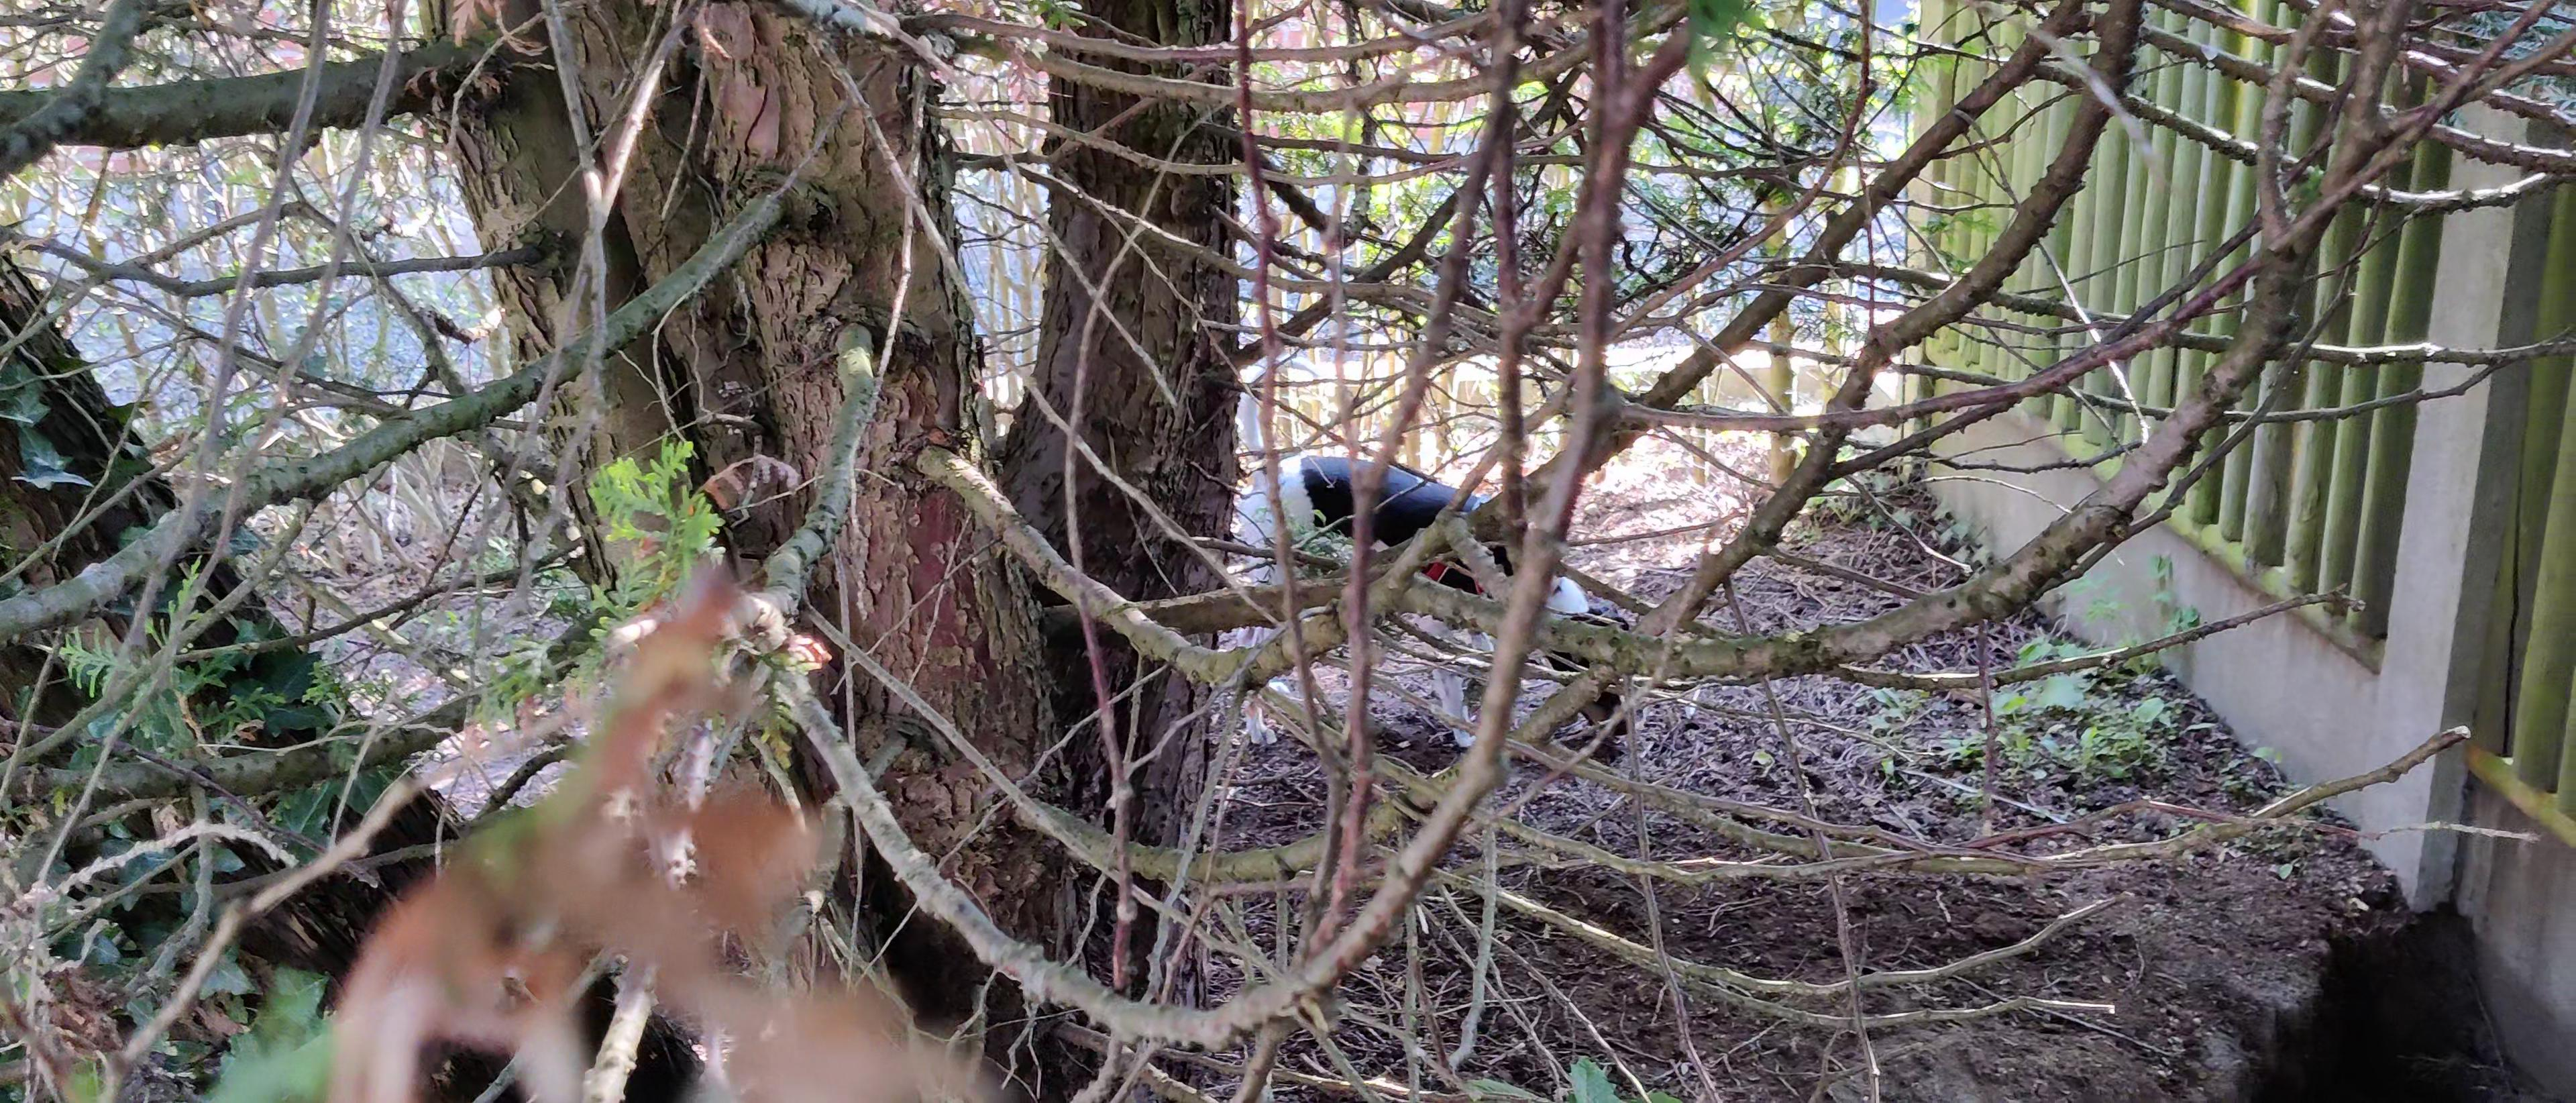Dog: (1206, 325, 1672, 773)
